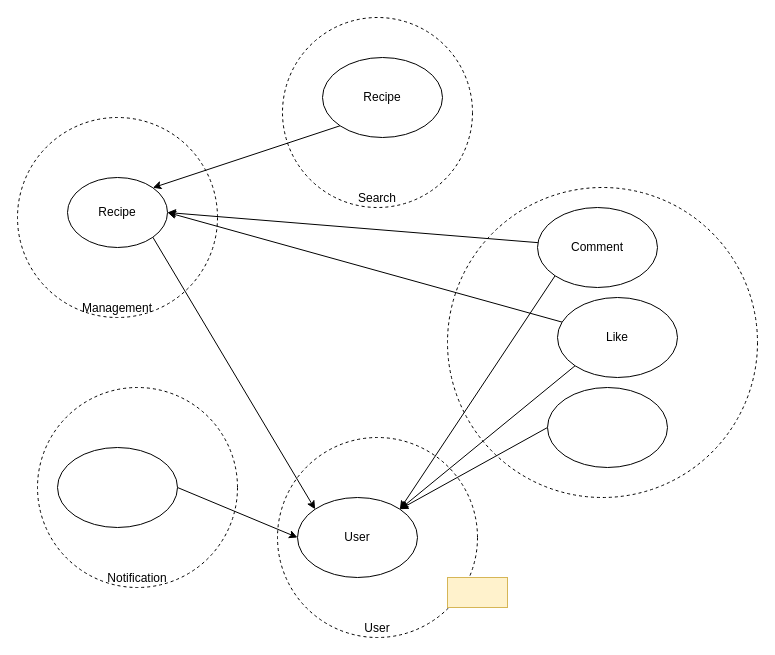
Some shapes in this 775 by 655 pixel diagram are drawn without their labels. Here are the shapes that lost their labels. From the top down, the box of each, then its label:
(446, 186, 758, 498): Social
(546, 386, 668, 468): Follow
(56, 446, 178, 528): Notification Preferences
(446, 576, 508, 608): Auth0
